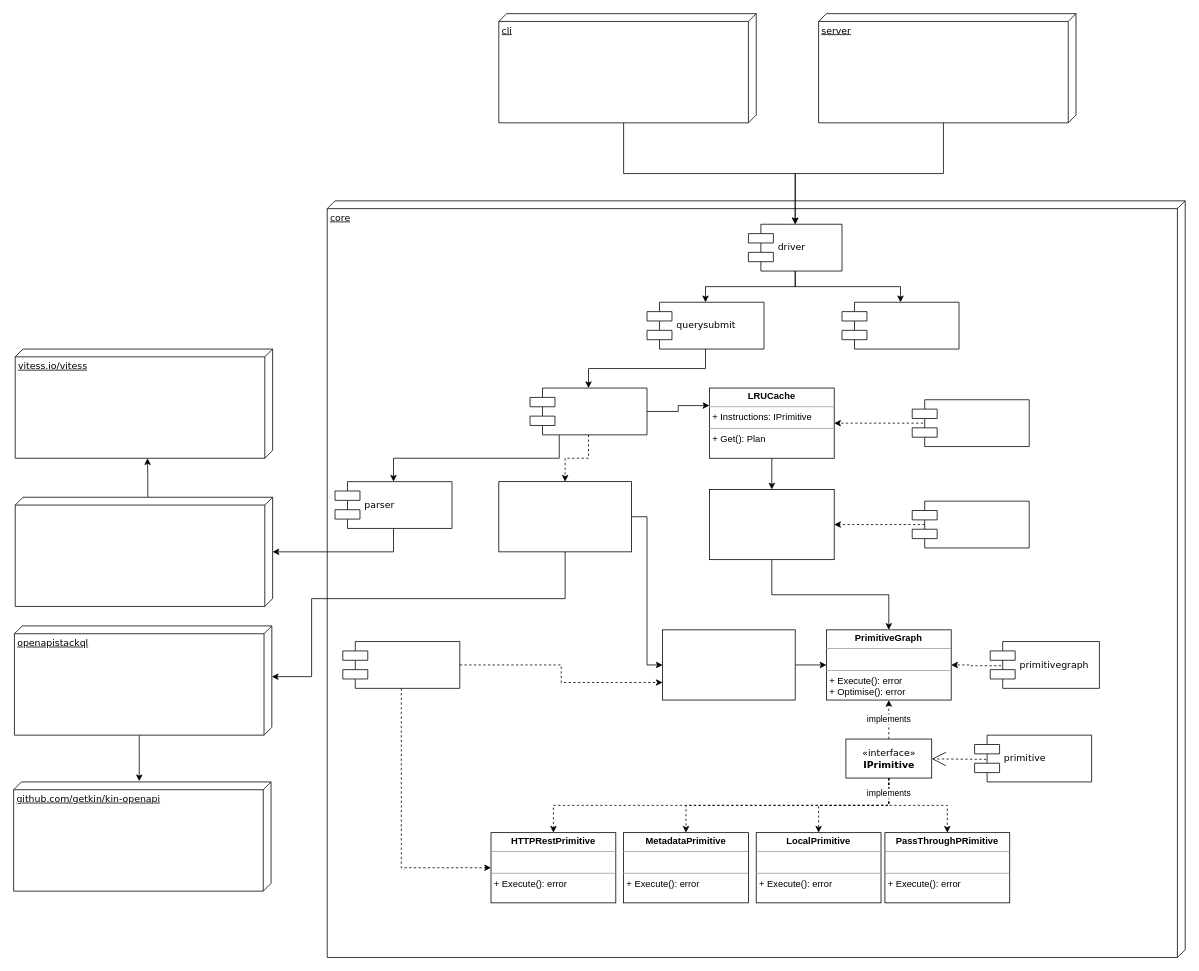
Image size: 1199x971. Some labels were removed from this diagram. The box of each missing label's shape, as (x1, y1, x2, y2) in pixels:
cache: (911, 399, 1029, 447)
plan: (911, 500, 1029, 548)
Plan +Instructions: IPrimitive + Size(): int: (709, 489, 834, 560)
planbuilder: (529, 387, 647, 435)
planGraphBuilder + insertExec(): error: (498, 481, 631, 552)
primitivebuilder: (342, 641, 460, 688)
PrimitiveBuilder + GetGraph(): PrimitiveGraph: (662, 629, 795, 700)
responsehandler: (841, 301, 959, 349)
stackql/vitess: (14, 496, 273, 606)
